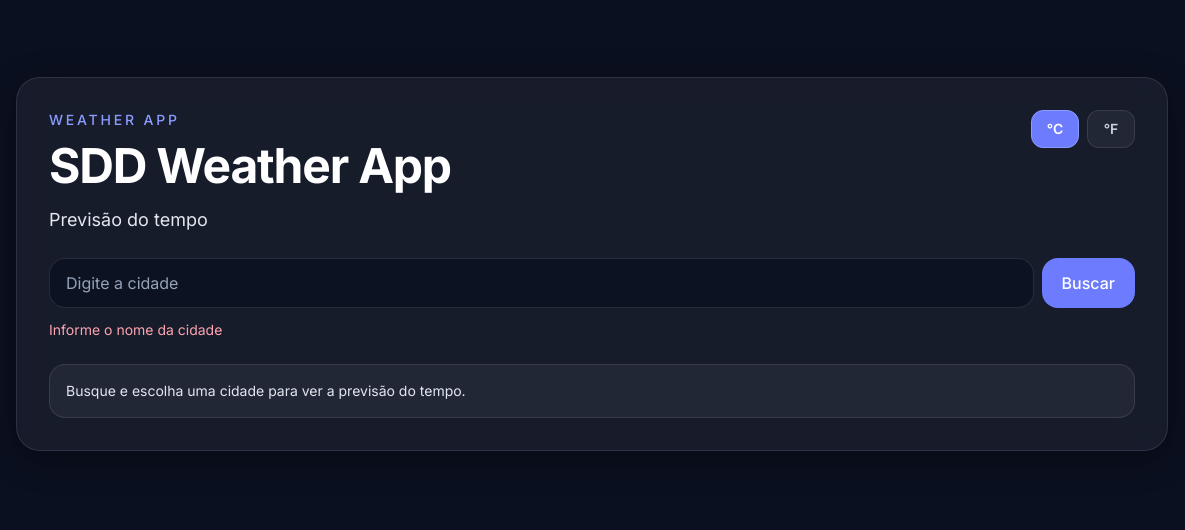
Scenario: search validation and flow › renders matching cities when the search resolves successfully
In the field named "nome da cidade": (541, 283) 49,258 -> 1034,308, type "Sao Paulo"
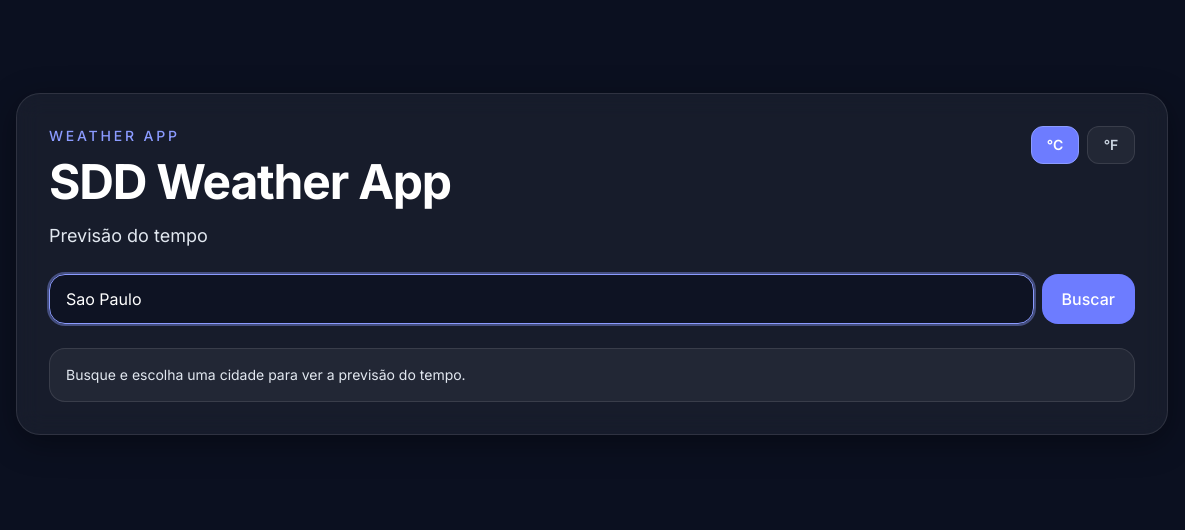
Press Enter
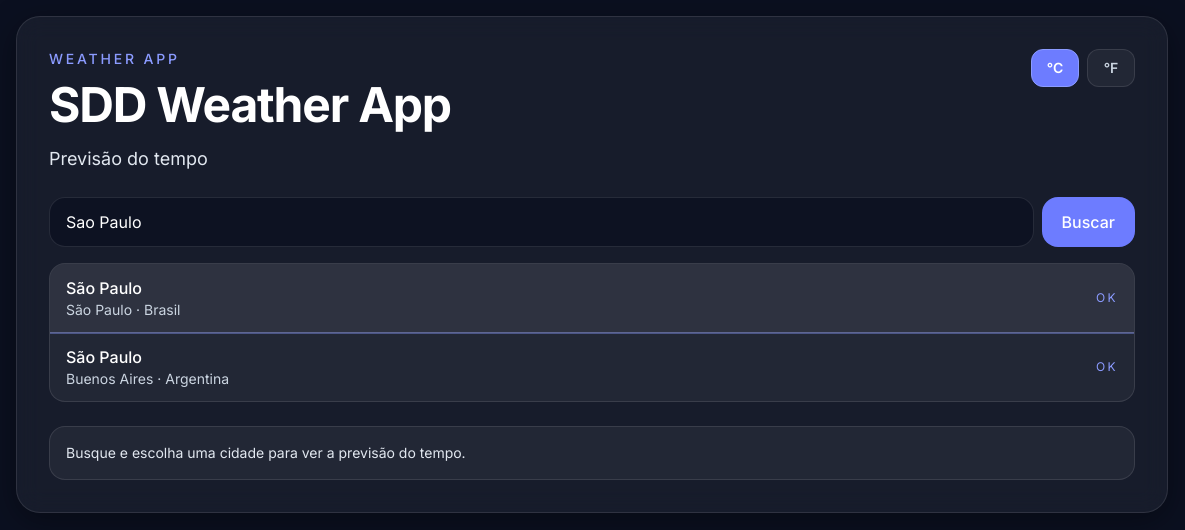
Expected: the number of buttons named "selecionar são paulo" is 2, 50,264 -> 1134,332; 50,332 -> 1134,400
